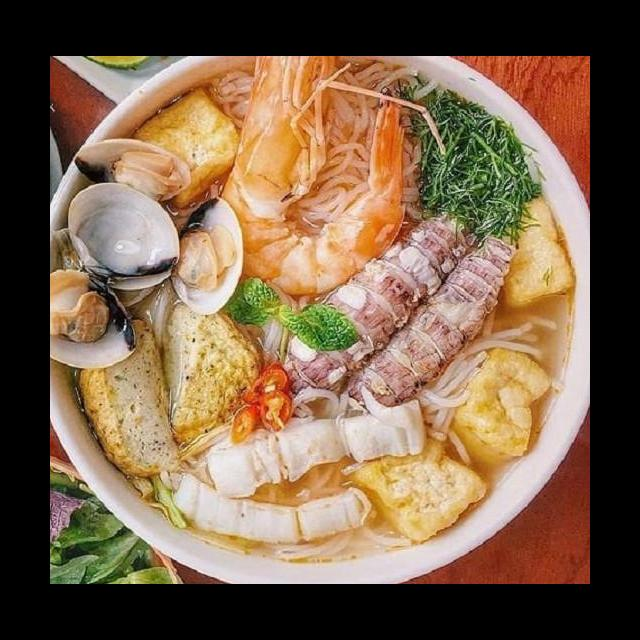bun: (288, 58, 445, 244), (414, 295, 561, 448), (204, 60, 259, 137)
bun hai san: (60, 74, 585, 584)
dau hu: (343, 433, 492, 547), (123, 83, 245, 212), (439, 344, 554, 469), (486, 192, 579, 310)
muc: (199, 395, 430, 503), (167, 468, 375, 545)
tom: (205, 57, 409, 302)
tom tit: (275, 203, 484, 403), (331, 230, 518, 423)
